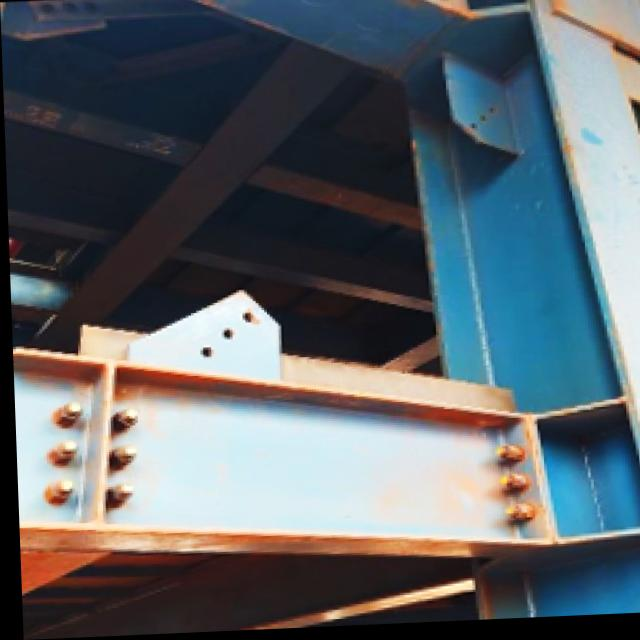Regular bolt: (92, 481, 133, 517), (37, 478, 78, 512), (499, 507, 532, 540), (492, 444, 525, 475), (493, 477, 526, 506), (111, 408, 136, 435)
